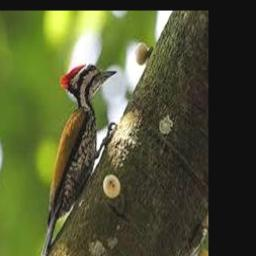Woodpecker: (39, 65, 117, 256)
